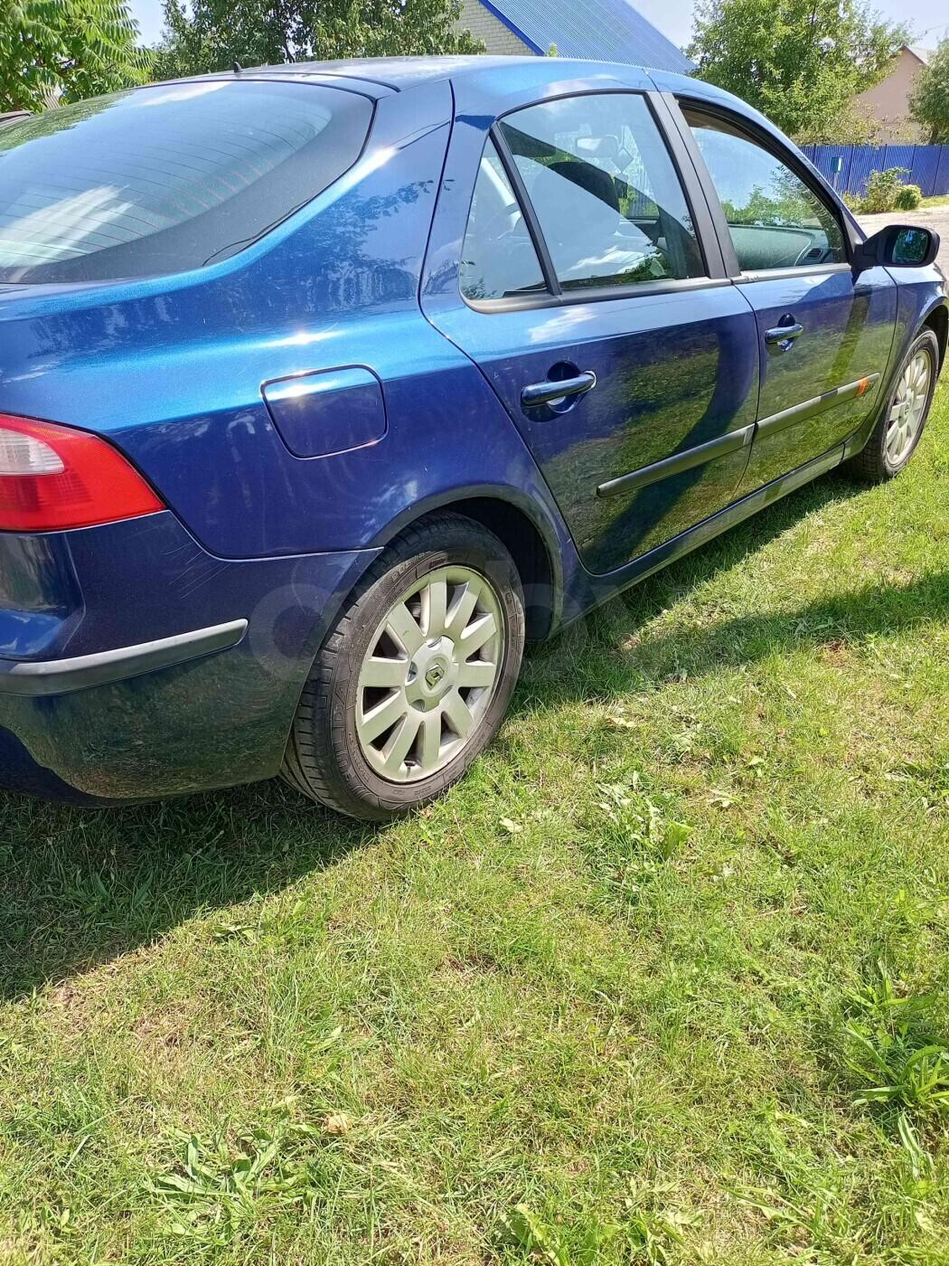Laguna_2001-2005: (0, 57, 948, 819)
